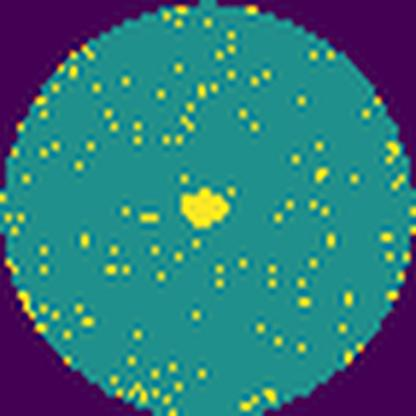Center: (181, 185, 232, 233)
